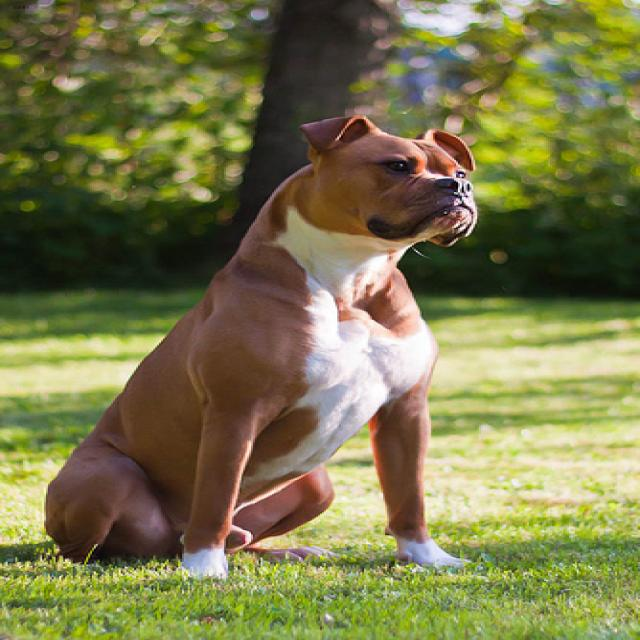dog-american_bulldog: (11, 104, 494, 598)
